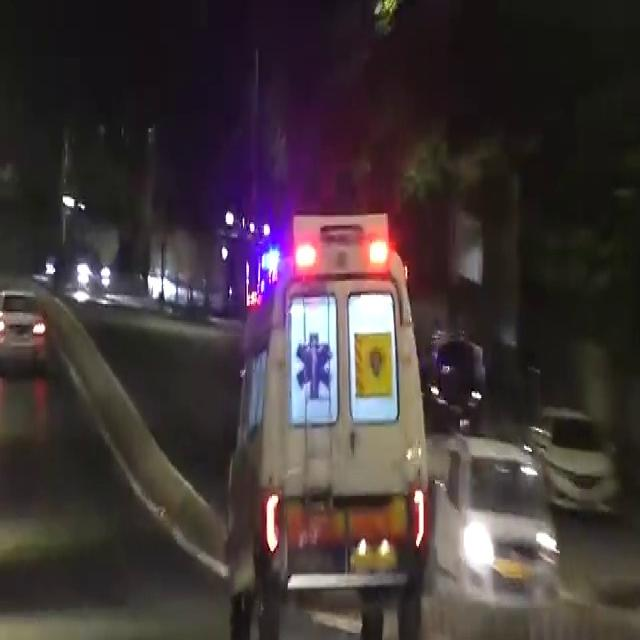ambulance: (237, 208, 431, 630)
